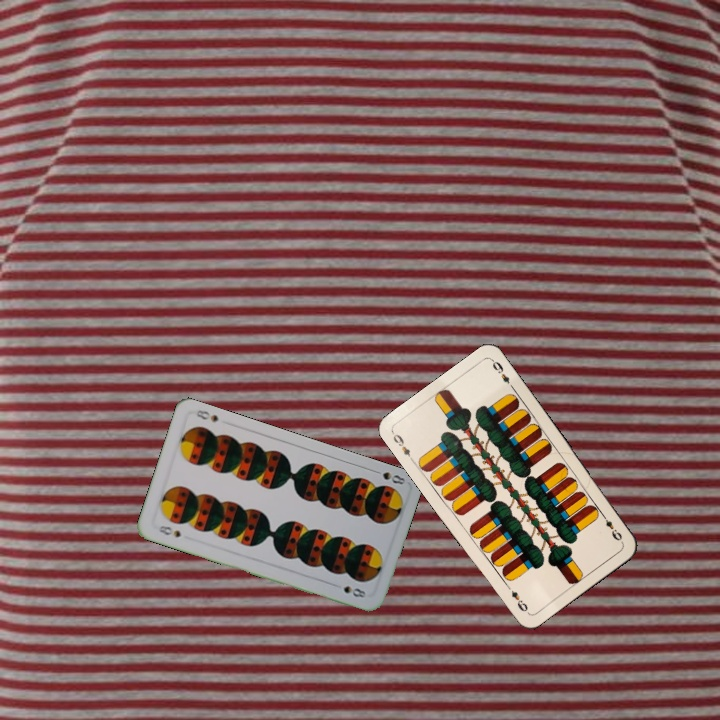E9: (388, 429, 417, 464), (597, 509, 625, 543)
S8: (368, 465, 408, 487), (154, 521, 183, 540)
